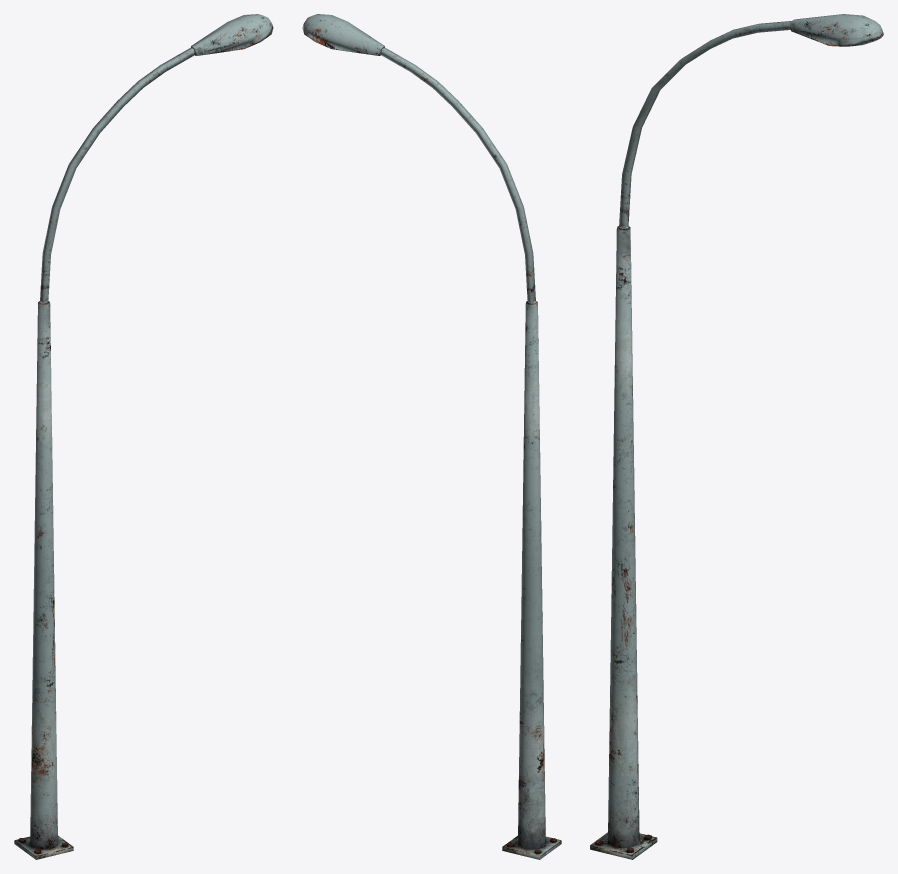
Rendered from Light_Pole.fbx.
3 renders of one model, left to right at view 1: azimuth 30°, elevation 25°; view 2: azimuth 150°, elevation 25°; view 3: azimuth 330°, elevation 25°, orthographic. The views are drawn at different scales.
Parts seen in each view (by area): view 1: Light_pole; view 2: Light_pole; view 3: Light_pole.
Boxes of the visible parts, left/top/right/bottom form: Light_pole: left=14, top=14, right=273, bottom=859; Light_pole: left=302, top=14, right=561, bottom=859; Light_pole: left=590, top=14, right=883, bottom=859.
Bounding box in the file's own units: 1.45 × 4.39 × 0.2211.
